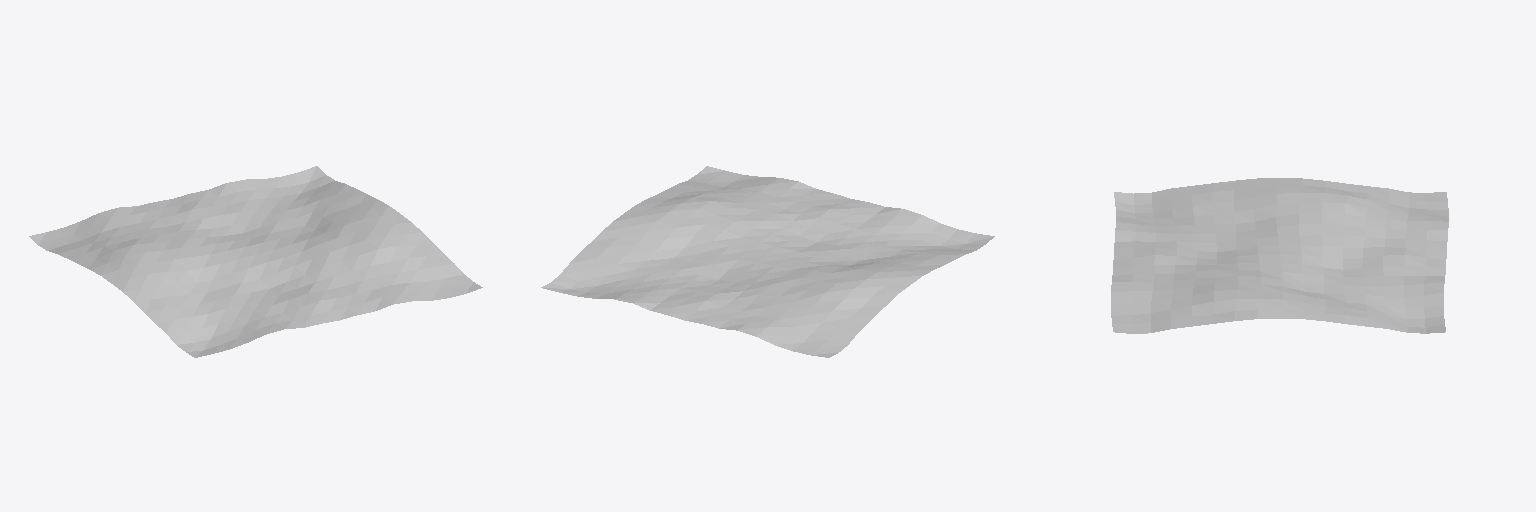
File: water_000024.obj
3 renders of one model, left to right at view 1: azimuth 30°, elevation 25°; view 2: azimuth 150°, elevation 25°; view 3: azimuth 270°, elevation 25°, orthographic.
Parts seen in each view (by area): view 1: Plan.003_Plan.001; view 2: Plan.003_Plan.001; view 3: Plan.003_Plan.001.
Boxes of the visible parts, x1,y1,x2,y2 form: Plan.003_Plan.001: [29, 166, 482, 357]; Plan.003_Plan.001: [541, 166, 994, 357]; Plan.003_Plan.001: [1111, 178, 1448, 333].
Bounding box in the file's own units: 60541 × 4209 × 61316.